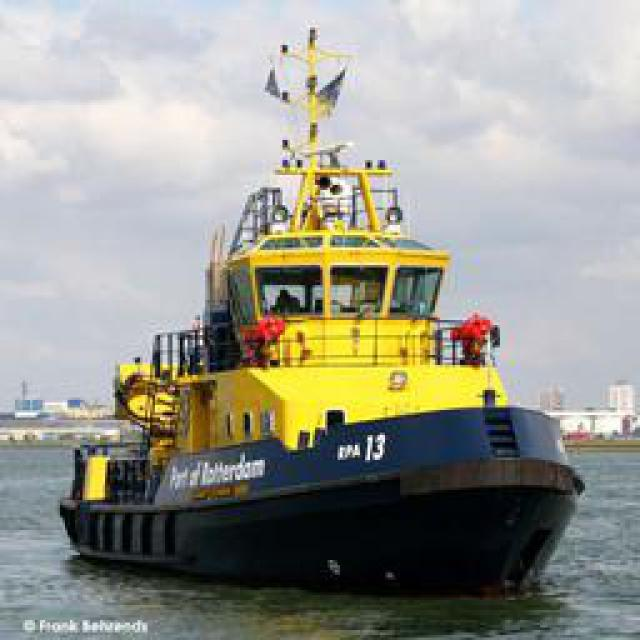Ship: (55, 21, 595, 591)
